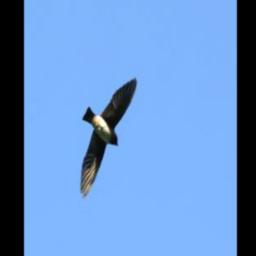Swallow: (78, 75, 135, 199)
